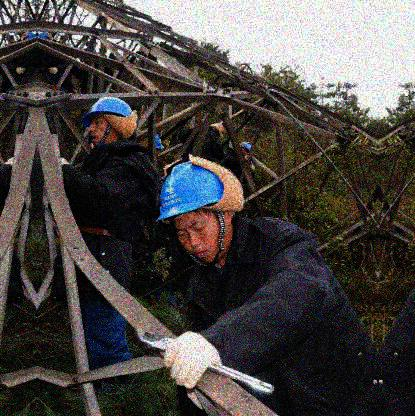helmet: (155, 155, 242, 261), (81, 96, 131, 143)
